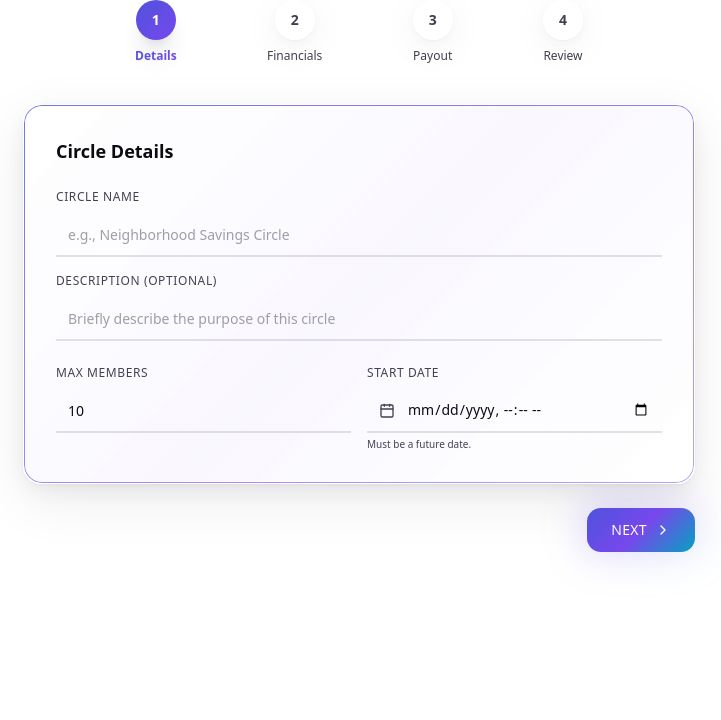
Test: CircleCreateForm — step 1 validation › advances to step 2 when step 1 is valid
The image size is (721, 720).
Note: Fill the name field (first textbox with the circle name placeholder)
In the field with placeholder "e.g., Neighborhood Savings Circle": (359, 235) [56,213,662,257], type "My Savings Circle"
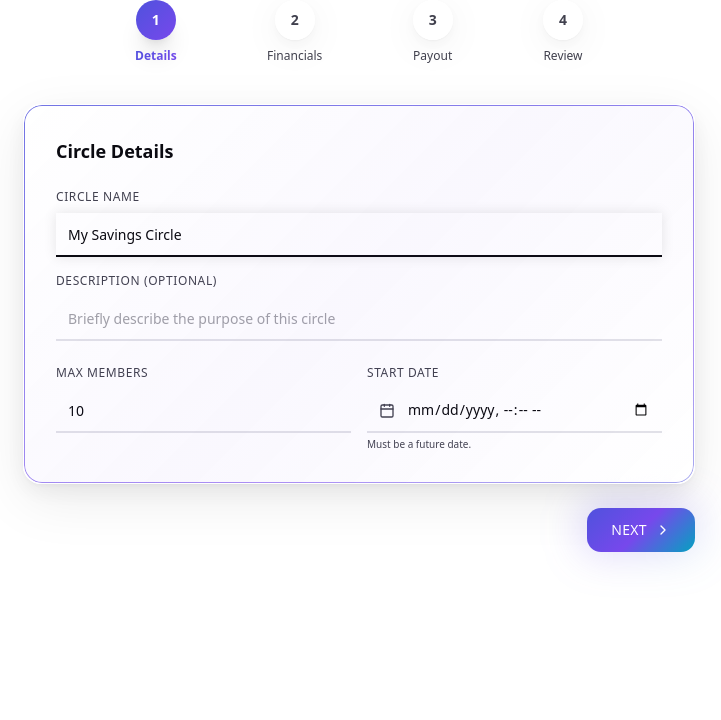
Click the button "Next": (641, 530) [587,508,695,552]
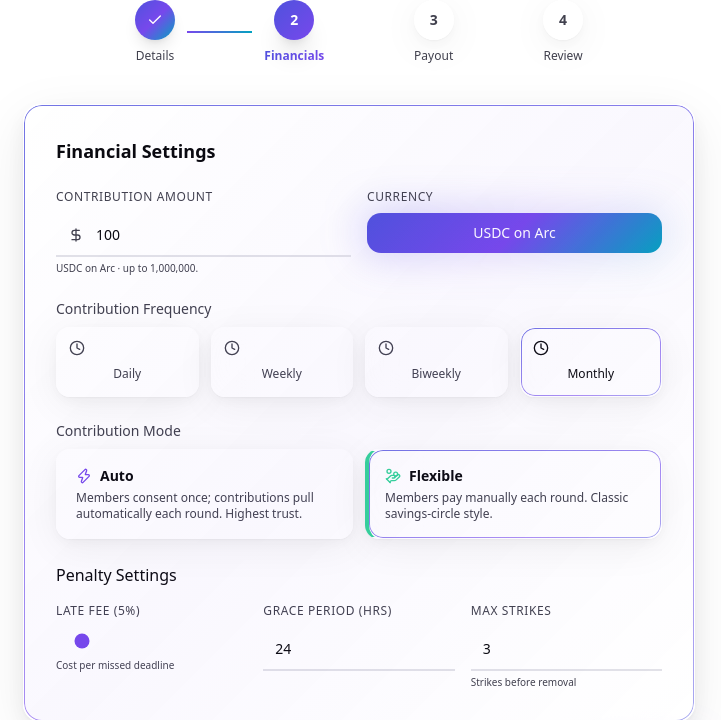
Expected: the text "Contribution Amount" is shown, [56,188,213,205]
